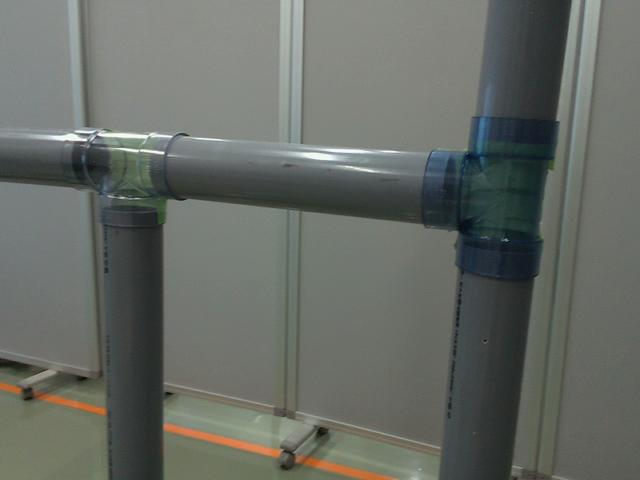junction: (419, 110, 561, 278), (56, 124, 192, 228)
